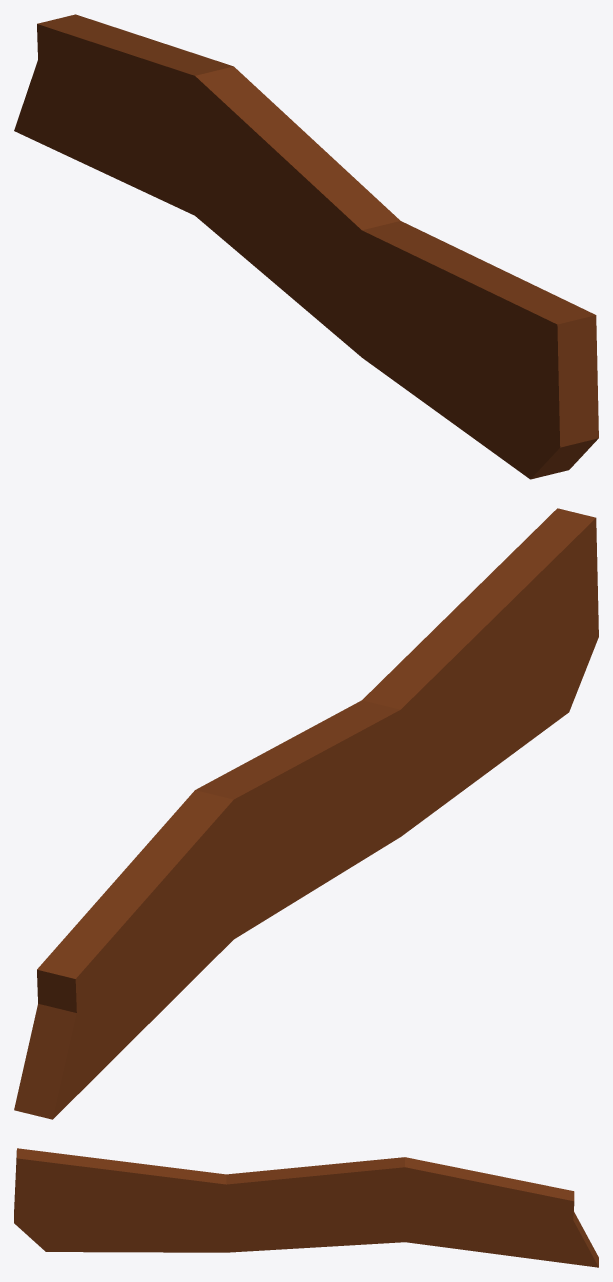
File: Barricade_Menu.fbx
The picture shows the model from 3 angles, top to bottom: view 1: azimuth 30°, elevation 25°; view 2: azimuth 150°, elevation 25°; view 3: azimuth 270°, elevation 25°; orthographic projection. The views are drawn at different scales.
Visible parts, largest first — view 1: Barricade_Milieu.001; view 2: Barricade_Milieu.001; view 3: Barricade_Milieu.001.
Part boxes in pixels (x1,y1,x2,y2): Barricade_Milieu.001: [14, 14, 598, 479]; Barricade_Milieu.001: [14, 508, 598, 1119]; Barricade_Milieu.001: [14, 1148, 598, 1267].
Size of the model in its own units: 14.06 by 70.71 by 343.
